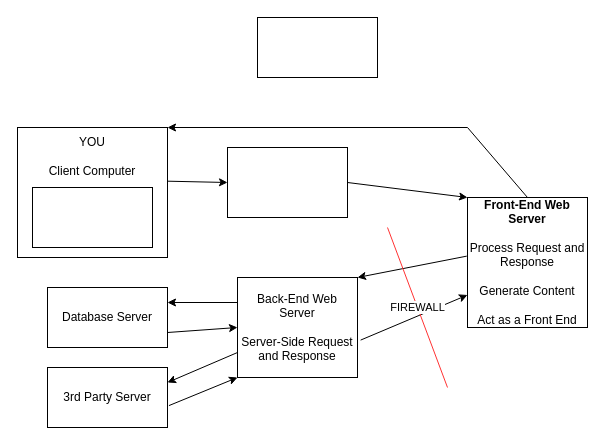
The diagram is 605 pixels wide and 445 high, and some of its shapes have lost their labels. Here are the shapes that lost their labels. From the top down, the centre of each, then its label:
At point (317, 47): "Generalized Web Architecture".
At point (287, 182): "Routers Interprets the IP Address".
At point (92, 217): "BROWSER".
